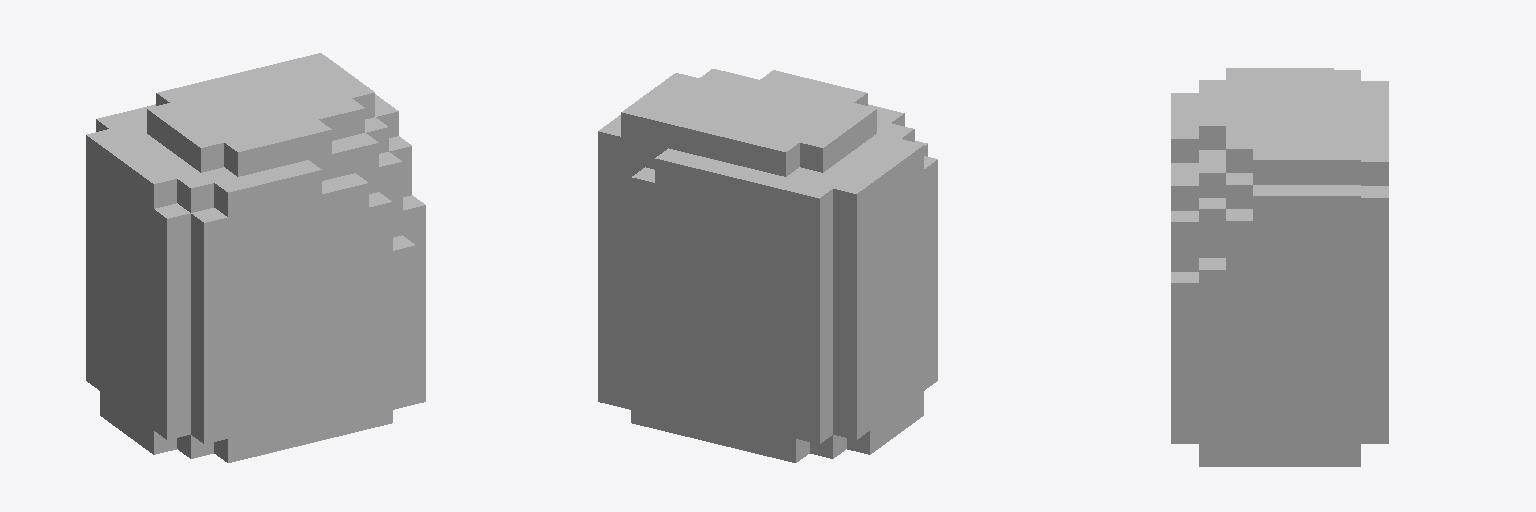
The model's file is Rock2.obj.
The picture shows the model from 3 angles: view 1: azimuth 30°, elevation 25°; view 2: azimuth 150°, elevation 25°; view 3: azimuth 270°, elevation 25°; orthographic projection.
Visible parts, largest first — view 1: object 1; view 2: object 1; view 3: object 1.
Part boxes in pixels (left/top/right/bottom): object 1: left=86, top=53, right=425, bottom=462; object 1: left=598, top=69, right=937, bottom=462; object 1: left=1171, top=68, right=1388, bottom=466.
Size of the model in its own units: 1.1 by 1.2 by 0.8.